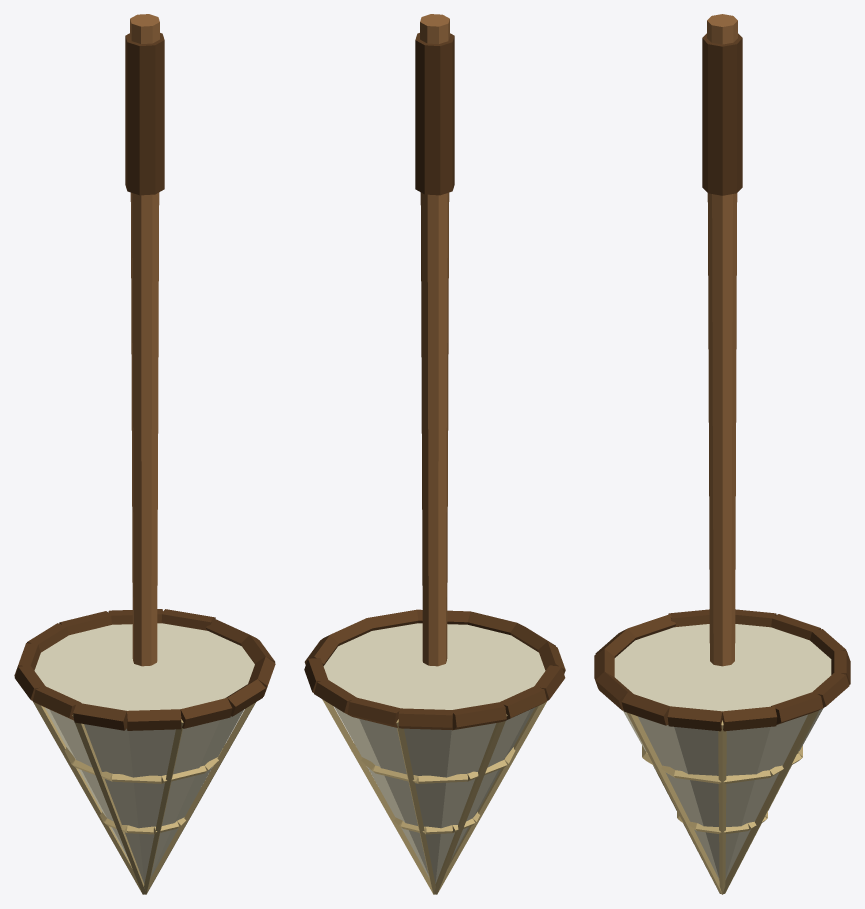
File: held_net.glb
3 views of the same model, side by side, from view 1: azimuth 30°, elevation 25°; view 2: azimuth 150°, elevation 25°; view 3: azimuth 270°, elevation 25° (orthographic).
Visible parts, largest first — view 1: held_net; view 2: held_net; view 3: held_net.
Boxes of the visible parts, x1,y1,x2,y2 form: held_net: [14, 14, 275, 894]; held_net: [304, 14, 565, 894]; held_net: [594, 14, 850, 894].
Size of the model in its own units: 0.2704 by 0.9953 by 0.2647.
